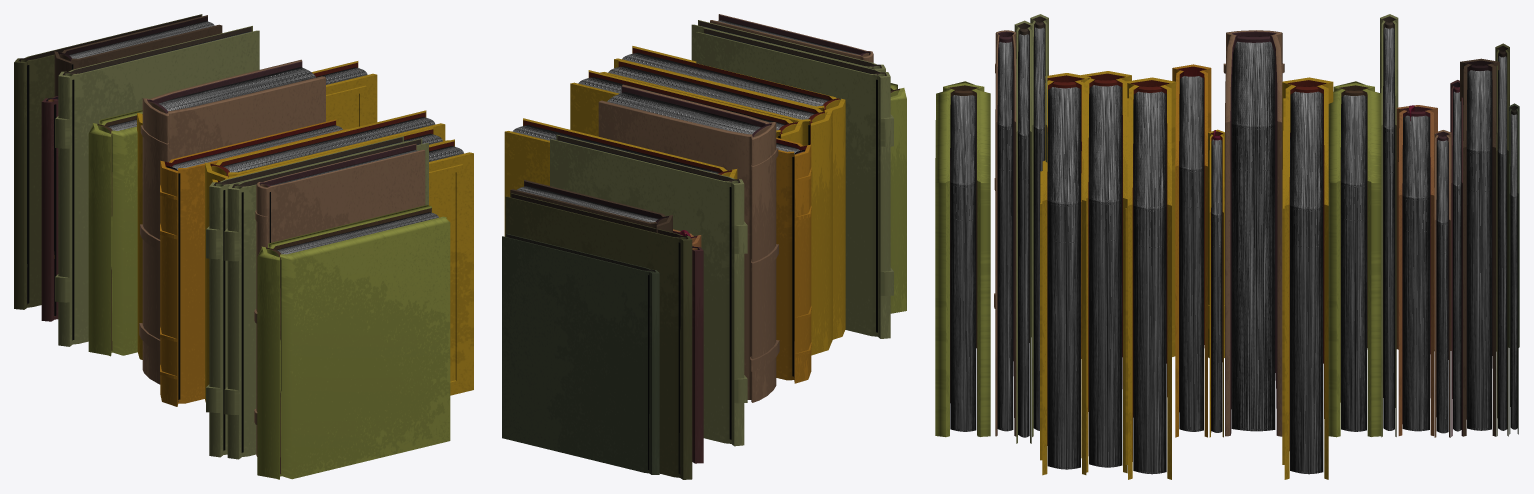
File: Shelf9.fbx
3 renders of one model, left to right at view 1: azimuth 30°, elevation 25°; view 2: azimuth 150°, elevation 25°; view 3: azimuth 270°, elevation 25°, orthographic. The views are drawn at different scales.
Visible parts, largest first — view 1: pCube104, pCube14, pCube12 (×4), pCube71, pCube15, pCube11, pCube103, pCube102, pCube67, pCube101, pCube69, pCube68 (+10 smaller); view 2: pCube66, pCube14, pCube12 (×4), pCube101, pCube71, pCube67, pCube15, pages14 (×4), pCube104, pCube69, pages13, pCube68 (+7 smaller); view 3: pages14 (×4), pCube12 (×4), pages13, pCube104, pCube11, pages28, pages8, pages11, pages17, pages15, pages27, pCube71 (+20 smaller).
Part boxes in pixels (x1,y1,x2,y2): pCube104: (257,205,450,479); pCube14: (55,26,259,346); pCube12 (×4): (137,61,473,402); pCube71: (139,59,325,384); pCube15: (160,119,348,406); pCube11: (88,109,142,356); pCube103: (254,143,425,456); pCube102: (224,138,428,459); pCube67: (14,14,202,309); pCube101: (206,136,409,457); pCube69: (41,96,58,321); pCube68: (54,15,222,96); pCube66: (502,233,659,474); pCube14: (550,134,747,446); pCube12 (×4): (504,46,845,355); pCube101: (696,27,893,338); pCube71: (598,84,779,402); pCube67: (505,193,692,479); pCube15: (776,137,811,383); pages14 (×4): (512,52,829,173); pCube104: (890,83,906,313); pCube69: (692,246,703,463); pages13: (607,92,760,134); pCube68: (510,179,672,232); pages14 (×4): (1047,85,1323,474); pCube12 (×4): (1040,71,1333,479); pages13: (1231,41,1275,431); pCube104: (935,81,990,437); pCube11: (1328,81,1381,437); pages28: (950,95,976,431); pages8: (1467,70,1491,430); pages11: (1179,76,1203,431); pages17: (1402,115,1429,431); pages15: (1341,95,1366,431); pages27: (997,41,1013,431); pCube71: (1223,30,1284,436).
Size of the model in its own units: 1.09 by 1.07 by 1.72.
